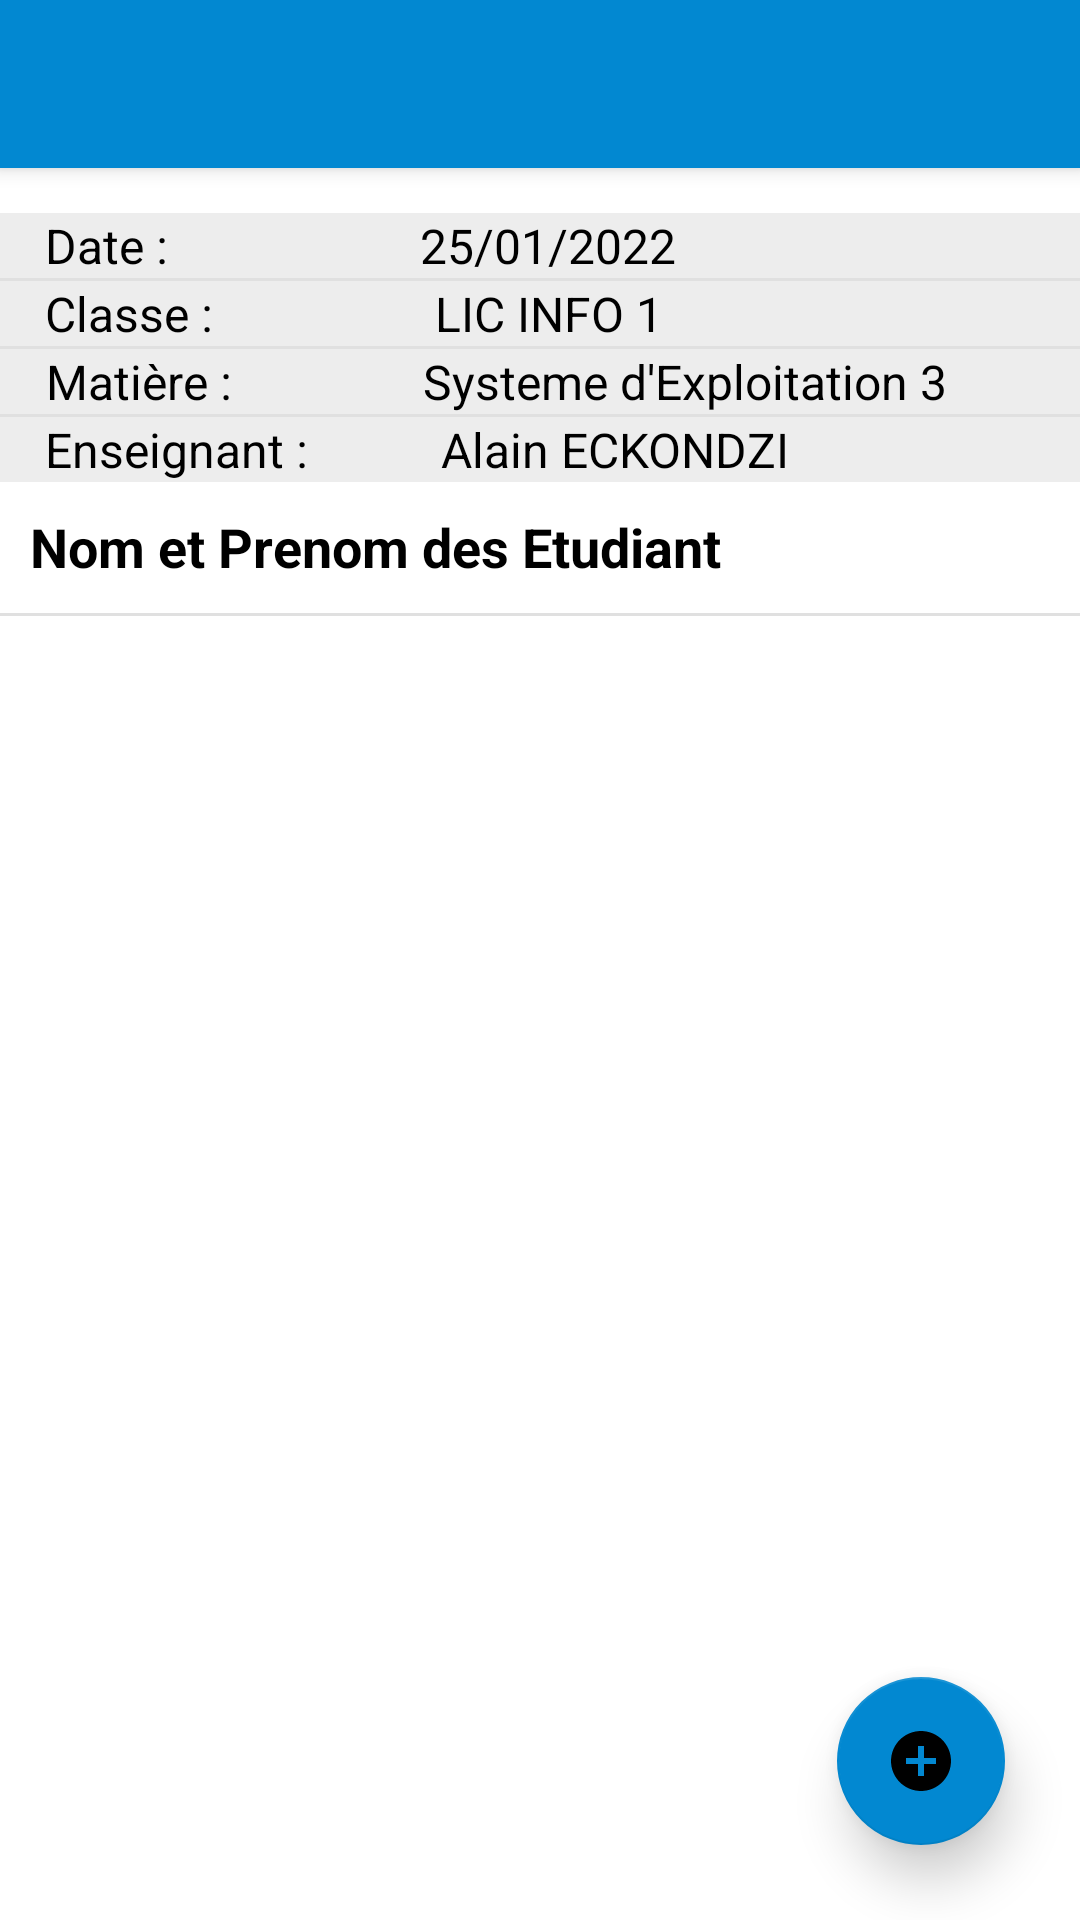

Where icons sit on this 1080px×1920px app screen, as detection(x1, y1, x2, y2):
adds: detection(837, 1677, 1005, 1845)
